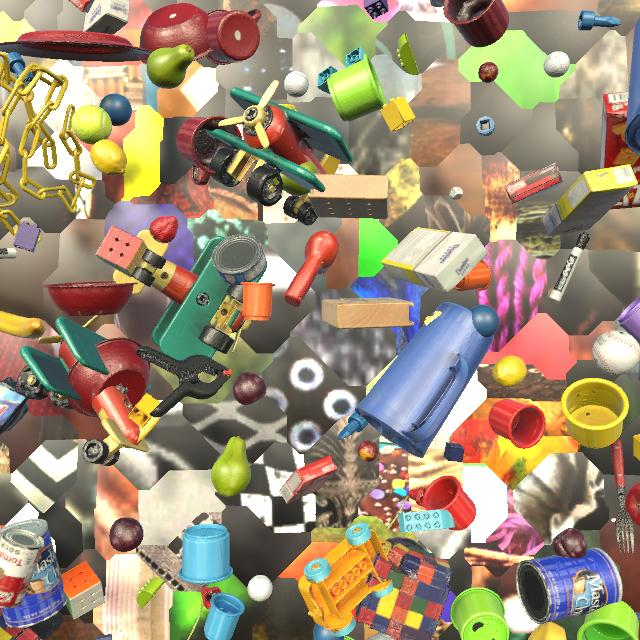ycb_002_master_chef_can: (516, 548, 623, 624), (0, 519, 67, 628)
ycb_003_cracker_box: (600, 91, 640, 209)
ycb_004_sugar_box: (381, 227, 488, 293), (543, 164, 638, 236), (84, 0, 130, 35)
ycb_005_tomato_soup_can: (0, 528, 45, 609)
ycb_006_mustard_bottle: (528, 622, 567, 640)
ycb_007_tuna_fish_can: (212, 234, 266, 285)
ycb_008_pudding_box: (504, 162, 563, 204)
ycb_009_gelatin_box: (280, 455, 337, 504), (69, 0, 94, 13), (367, 632, 400, 640)
ycb_011_banana: (0, 311, 46, 339)
ycb_012_strawberry: (149, 216, 178, 244)
ycb_013_apple: (625, 482, 640, 526)
ycb_014_lemon: (90, 140, 127, 176), (492, 355, 527, 387)
ycb_016_pear: (211, 436, 251, 497), (146, 44, 195, 89), (273, 161, 318, 196)
ycb_018_plum: (109, 517, 144, 552), (233, 372, 267, 405), (552, 528, 587, 559)
